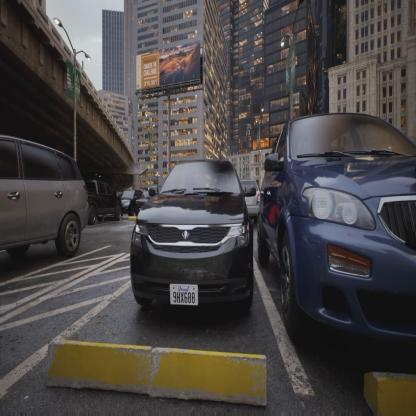License-Plate: (164, 274, 204, 313)
